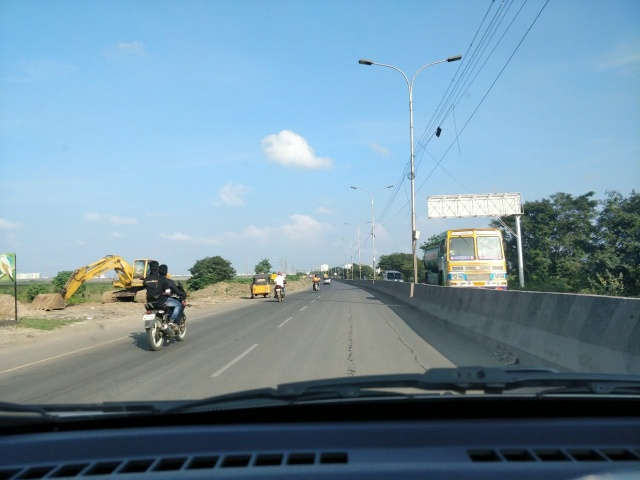auto: (251, 269, 273, 300)
car: (379, 265, 405, 286), (321, 274, 331, 285)
motorbike: (144, 262, 190, 353), (273, 270, 288, 302), (312, 272, 320, 295)
tractor: (22, 253, 171, 312)
truck: (424, 230, 508, 303)
